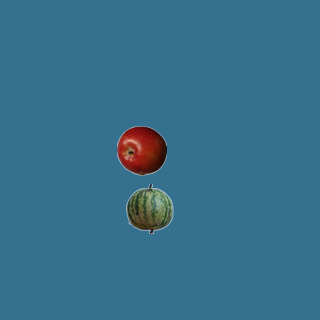Apple Braeburn: (116, 125, 166, 175)
Watermelon: (124, 183, 174, 233)
